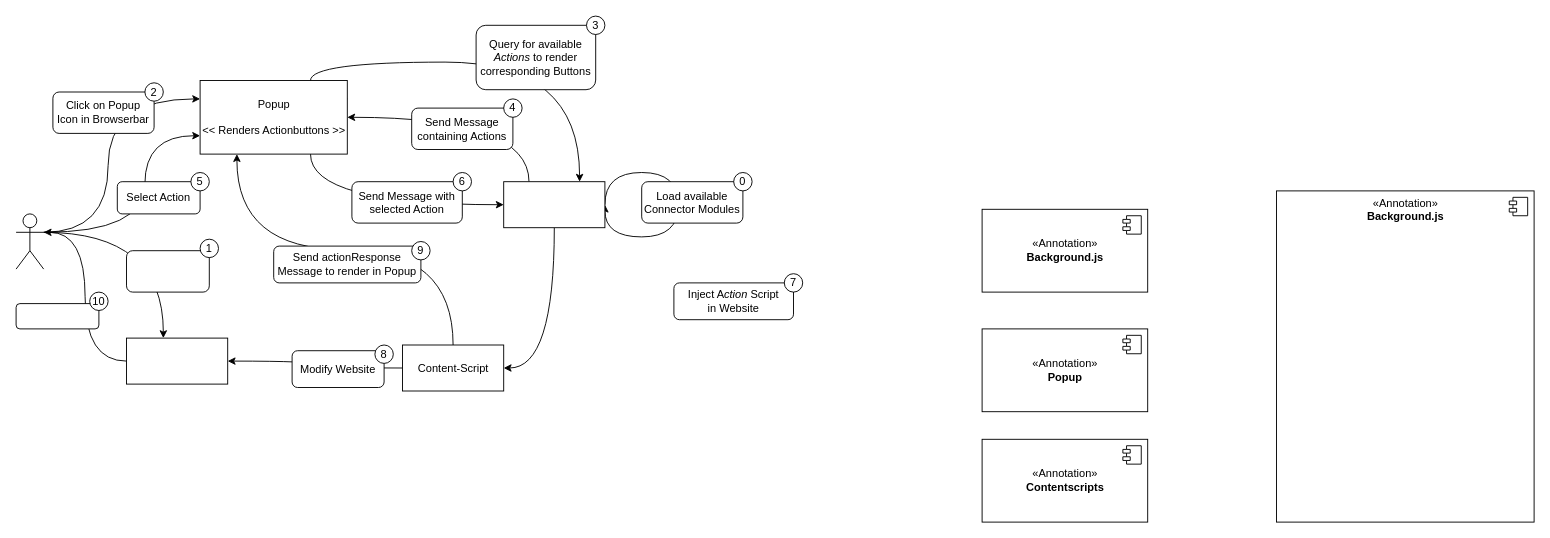
Some shapes in this 1550 by 538 pixel diagram are drawn without their labels. The shapes that lost their labels are listed below. From the top down, each one's centre as x and y in pixels, then its label:
pixel 554 204: Background
pixel 29 241: Actor
pixel 167 271: Visit supported Website
pixel 57 316: Persent Result
pixel 177 360: Company Website
